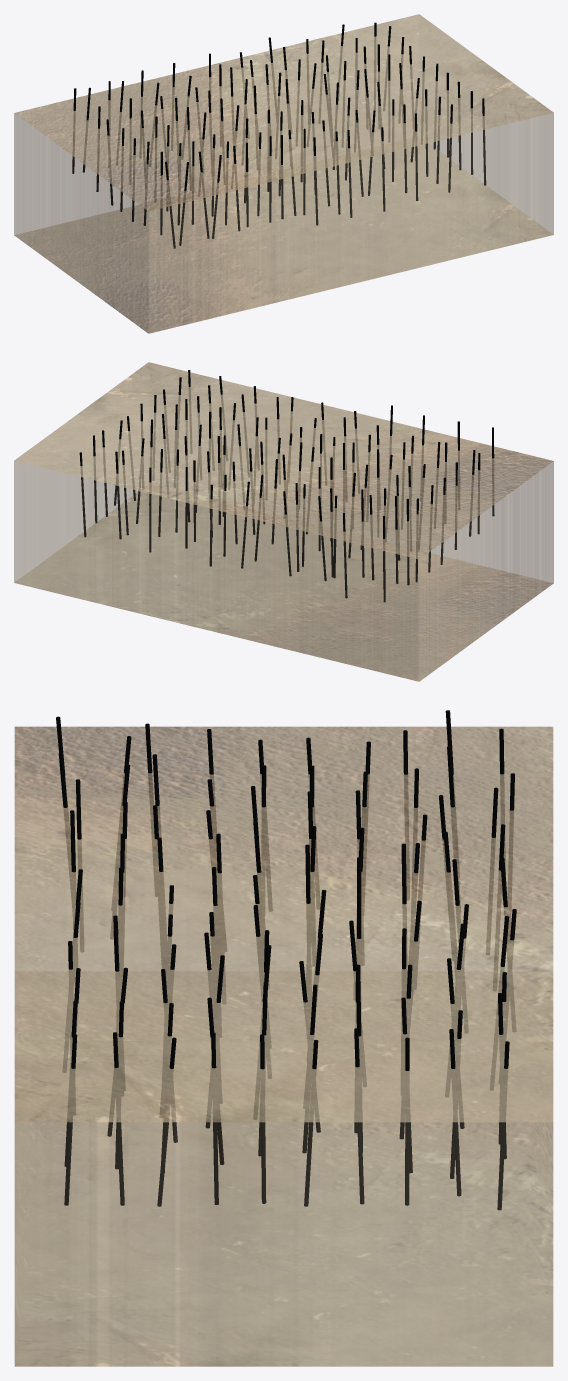
3 renders of one model, top to bottom at view 1: azimuth 30°, elevation 25°; view 2: azimuth 150°, elevation 25°; view 3: azimuth 270°, elevation 25°, orthographic. The views are drawn at different scales.
Parts seen in each view (by area): view 1: image_2026-07-06_13-10-52, Cylinder.047, Cylinder.048, Cylinder.046, Cylinder.050, Cylinder.049, Cylinder.053, Cylinder.051, Cylinder.069, Cylinder.066, Cylinder.063, Cylinder.040 (+2 smaller); view 2: image_2026-07-06_13-10-52, Cylinder.057, Cylinder.059, Cylinder.040, Cylinder.058, Cylinder.069, Cylinder.070, Cylinder.060, Cylinder.063, Cylinder.041, Cylinder.066, Cylinder.051; view 3: image_2026-07-06_13-10-52, Cylinder.058, Cylinder.056, Cylinder.052, Cylinder.069, Cylinder.049, Cylinder.057, Cylinder.070, Cylinder.051, Cylinder.041, Cylinder.059, Cylinder.066 (+19 smaller).
Part boxes in pixels (x1,y1,x2,y2): image_2026-07-06_13-10-52: [14, 14, 553, 333]; Cylinder.047: [269, 128, 305, 222]; Cylinder.048: [313, 129, 352, 225]; Cylinder.046: [165, 151, 209, 248]; Cylinder.050: [179, 155, 221, 245]; Cylinder.049: [246, 135, 283, 227]; Cylinder.053: [288, 120, 330, 215]; Cylinder.051: [225, 132, 261, 225]; Cylinder.069: [72, 88, 100, 191]; Cylinder.066: [160, 141, 194, 235]; Cylinder.063: [120, 128, 135, 221]; Cylinder.040: [82, 81, 123, 172]; image_2026-07-06_13-10-52: [14, 362, 553, 681]; Cylinder.057: [241, 474, 263, 568]; Cylinder.059: [295, 483, 333, 577]; Cylinder.040: [361, 489, 398, 583]; Cylinder.058: [283, 491, 326, 581]; Cylinder.069: [383, 498, 409, 602]; Cylinder.070: [343, 495, 374, 598]; Cylinder.060: [209, 474, 226, 566]; Cylinder.063: [428, 477, 445, 572]; Cylinder.041: [302, 484, 337, 578]; Cylinder.066: [434, 442, 475, 536]; Cylinder.051: [366, 434, 405, 528]; image_2026-07-06_13-10-52: [14, 726, 553, 1366]; Cylinder.058: [486, 787, 505, 991]; Cylinder.056: [305, 843, 407, 1018]; Cylinder.052: [212, 833, 225, 1037]; Cylinder.069: [403, 728, 505, 900]; Cylinder.049: [70, 779, 83, 981]; Cylinder.057: [452, 857, 516, 1033]; Cylinder.070: [411, 768, 514, 933]; Cylinder.051: [153, 805, 166, 970]; Cylinder.041: [408, 814, 427, 989]; Cylinder.059: [439, 795, 457, 977]; Cylinder.066: [145, 723, 161, 896].
Bounding box in the file's own units: 1.74 × 0.632 × 1.
3 materials, 2 textured.
